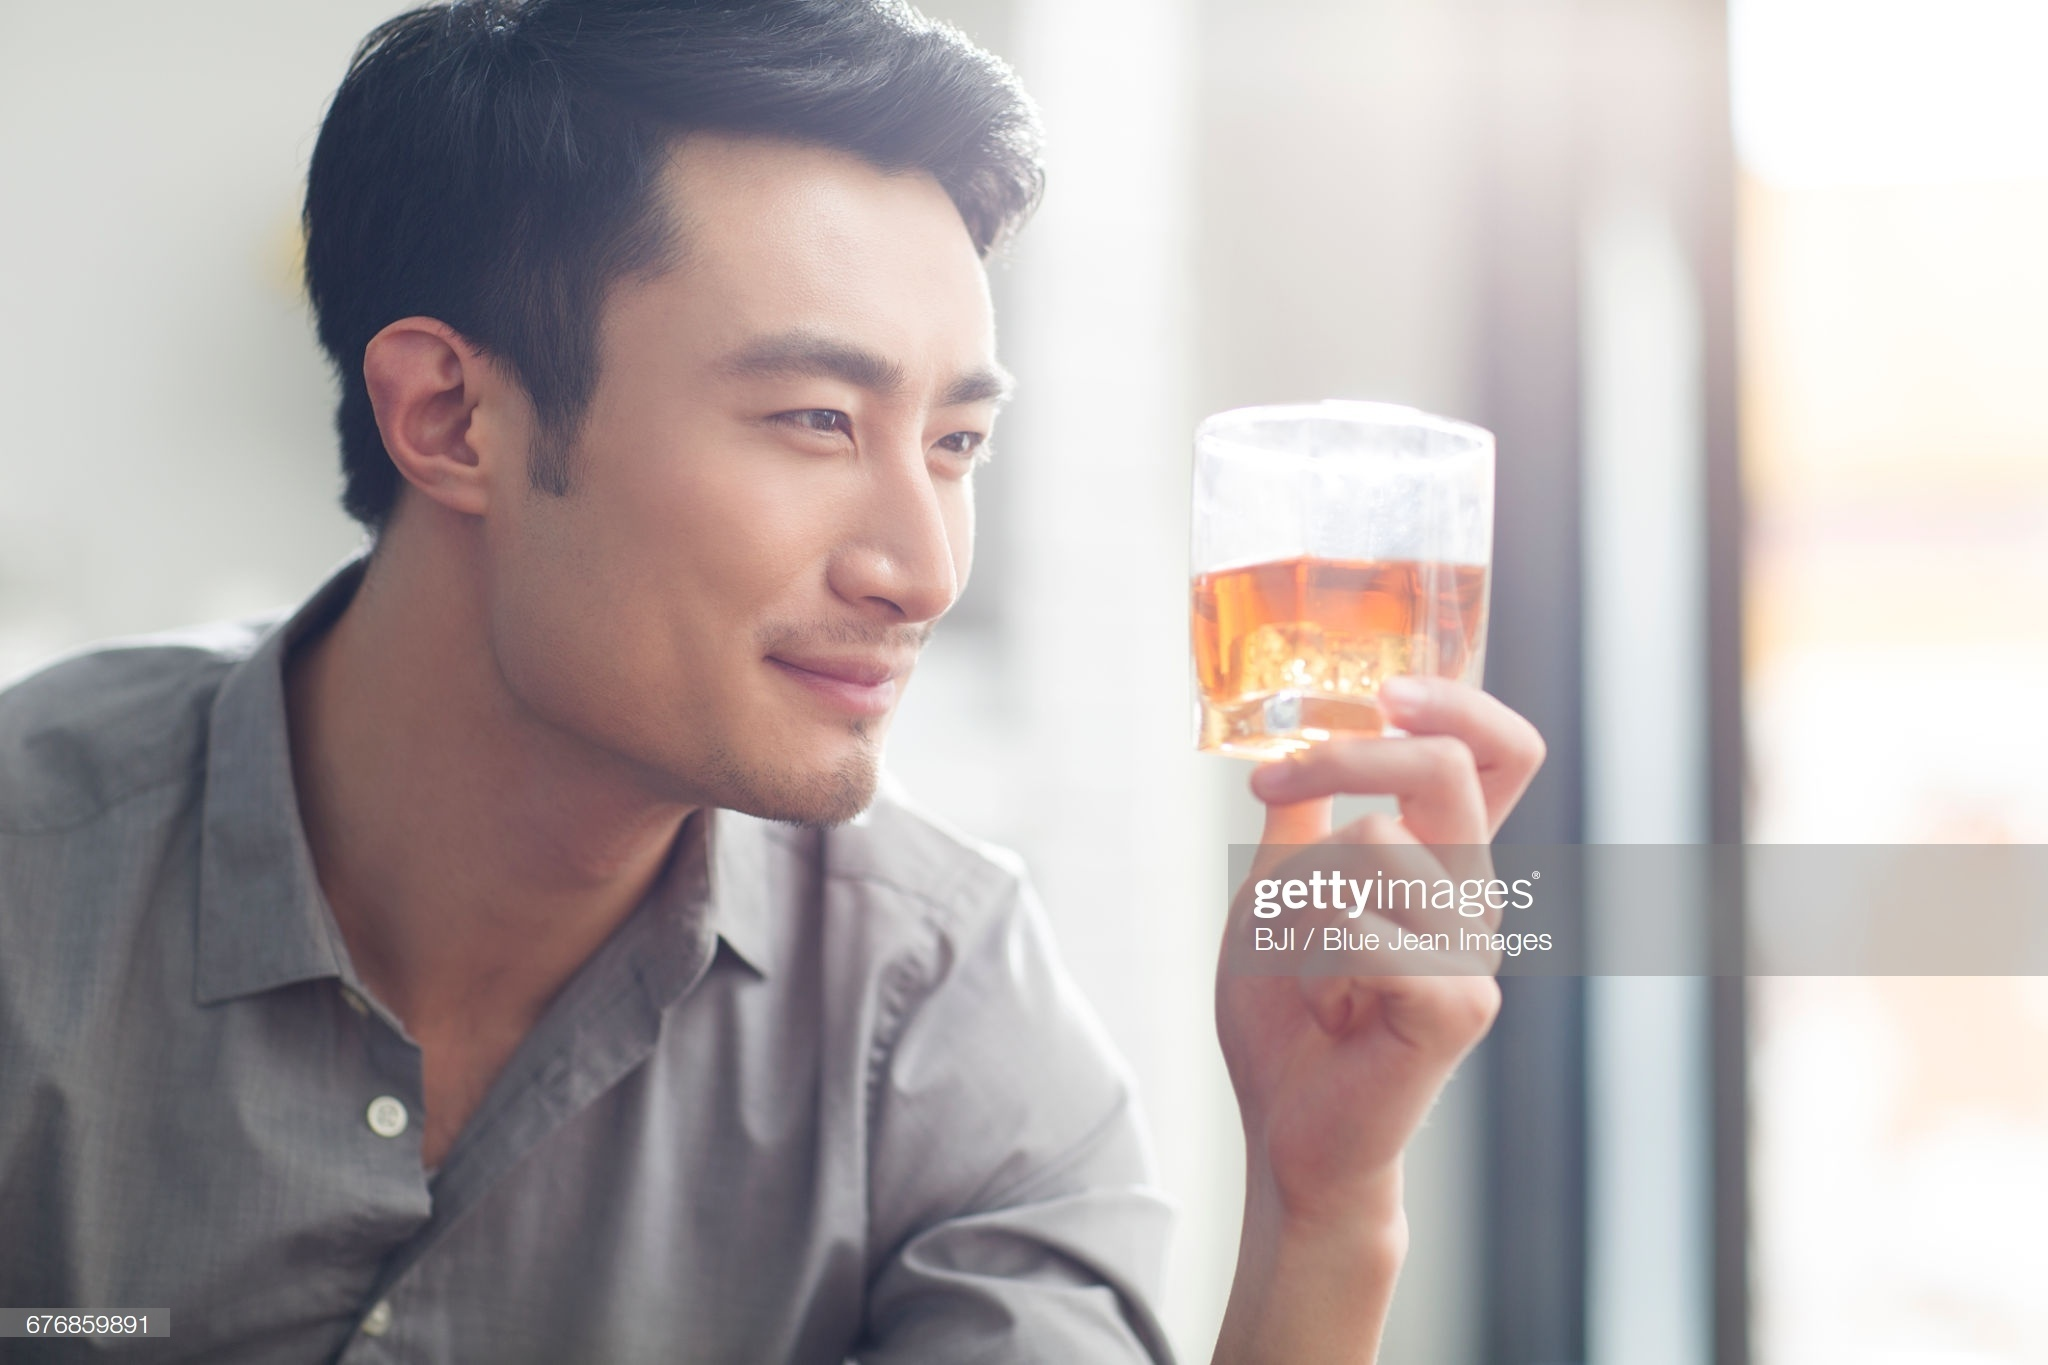whiskey: (1201, 417, 1482, 721)
